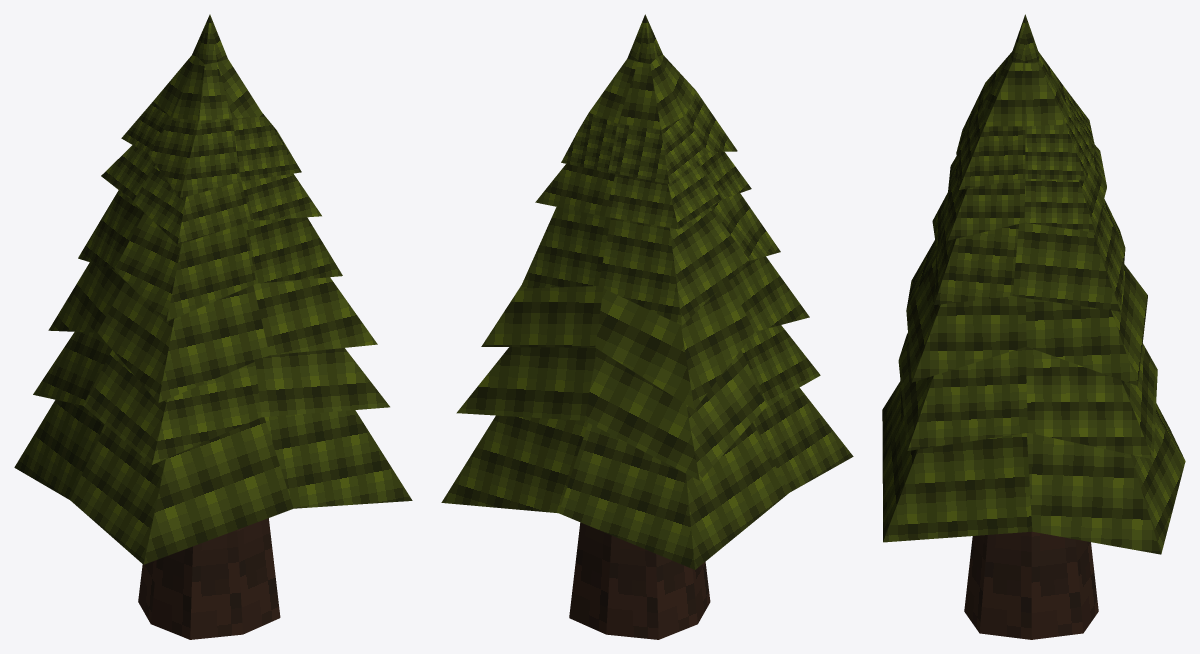
Rendered from Sapin.glb.
The picture shows the model from 3 angles, left to right: view 1: azimuth 30°, elevation 25°; view 2: azimuth 150°, elevation 25°; view 3: azimuth 270°, elevation 25°; orthographic projection.
Visible parts, largest first — view 1: Plane.029; view 2: Plane.029; view 3: Plane.029.
Boxes of the visible parts, <box> form: Plane.029: <box>14,14,412,639</box>; Plane.029: <box>441,14,853,639</box>; Plane.029: <box>882,14,1185,639</box>.
Bounding box in the file's own units: 1.42 × 2.87 × 1.32.
2 materials, 2 textured.
